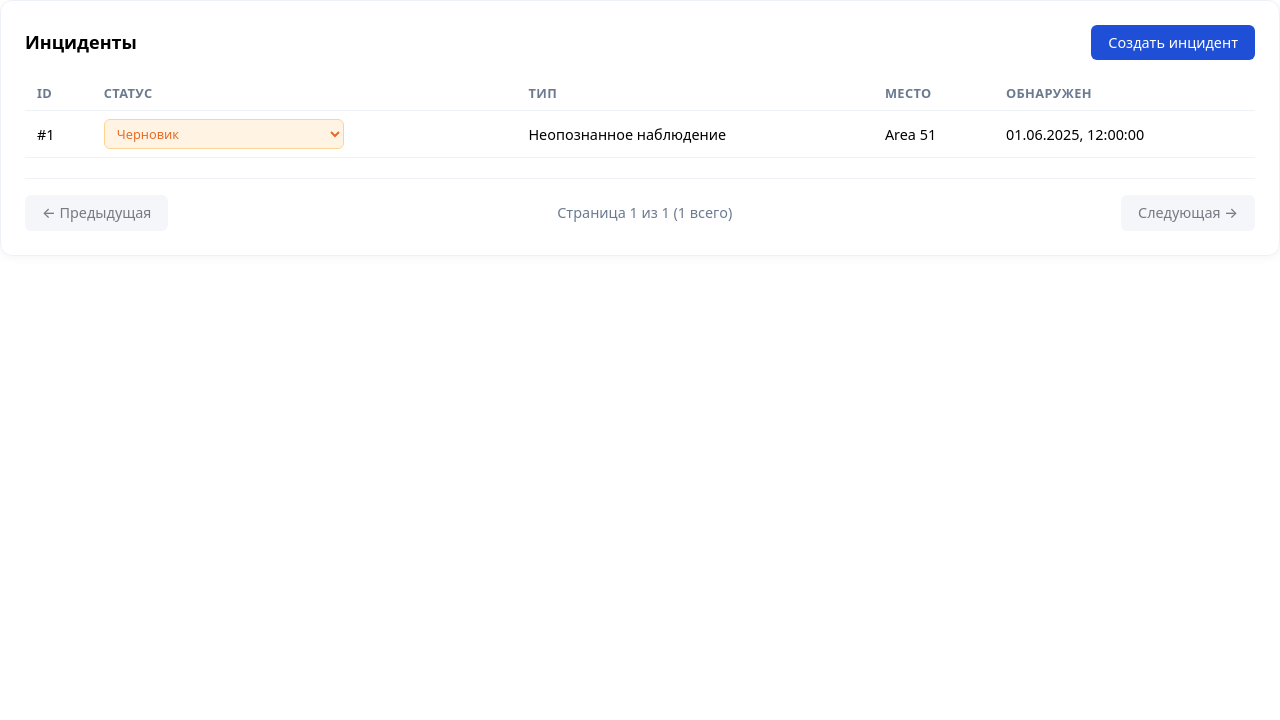
Test: IncidentsTab › opens create incident modal
Click the button "Создать инцидент" at (1173, 43), box [1091,25,1255,60]
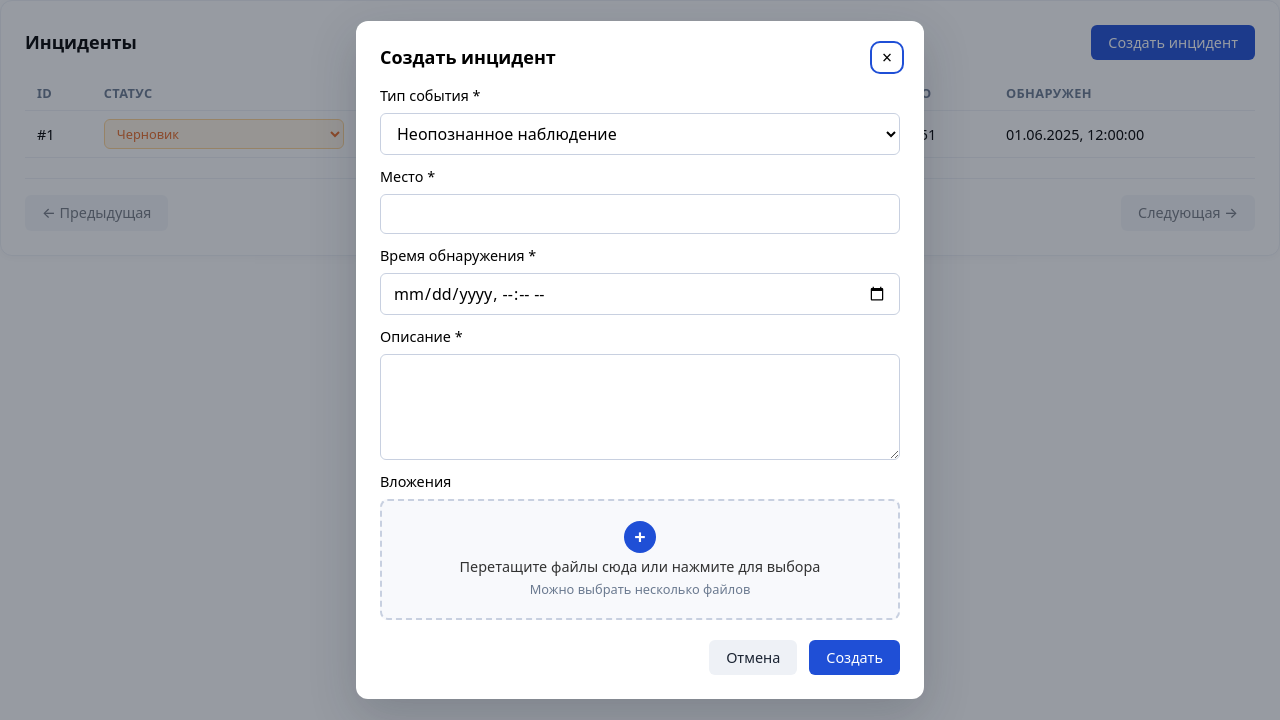
Check: the heading "Создать инцидент" is shown, box [380,45,556,70]
